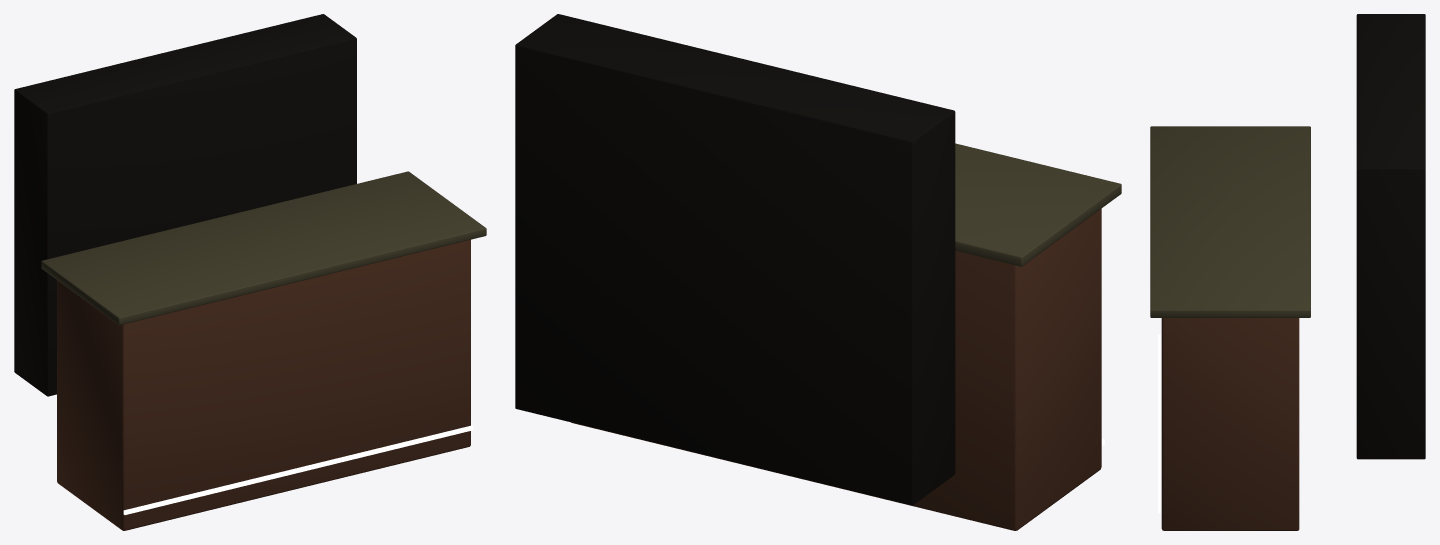
The model's file is fur_home_bar.glb.
The picture shows the model from 3 angles, left to right: view 1: azimuth 30°, elevation 25°; view 2: azimuth 150°, elevation 25°; view 3: azimuth 270°, elevation 25°; orthographic projection. The views are drawn at different scales.
Parts seen in each view (by area): view 1: FUR_home_bar; view 2: FUR_home_bar; view 3: FUR_home_bar.
Part boxes in pixels (<box>): FUR_home_bar: <box>14,14,486,530</box>; FUR_home_bar: <box>515,14,1121,530</box>; FUR_home_bar: <box>1150,14,1425,530</box>.
Size of the model in its own units: 1.9 by 1.7 by 1.2.
Materials: 3 (1 with a texture image).
